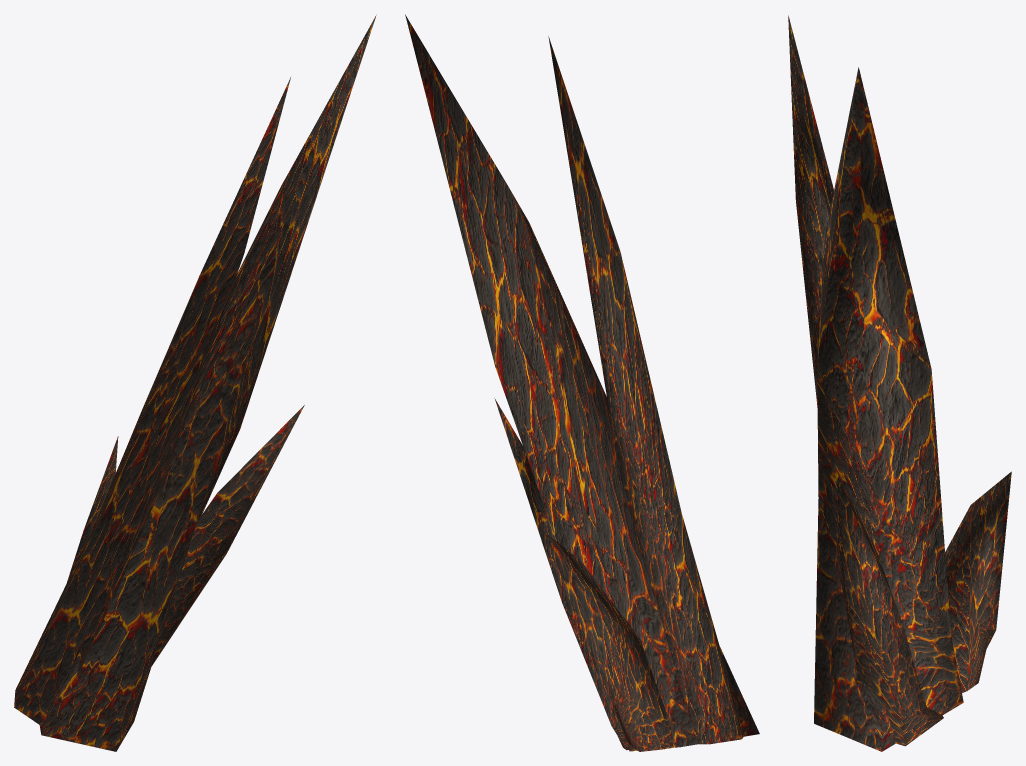
Rendered from jiaoci (1).fbx.
3 views of the same model, side by side, from view 1: azimuth 30°, elevation 25°; view 2: azimuth 150°, elevation 25°; view 3: azimuth 270°, elevation 25° (orthographic). The views are drawn at different scales.
Parts seen in each view (by area): view 1: jiaoci (1); view 2: jiaoci (1); view 3: jiaoci (1).
Part boxes in pixels (x1=…): jiaoci (1): x1=14, y1=15, x2=376, y2=751; jiaoci (1): x1=405, y1=14, x2=759, y2=751; jiaoci (1): x1=788, y1=15, x2=1011, y2=751.
Size of the model in its own units: 2.3 by 4.17 by 1.02.
Materials: 1 (1 with a texture image).
